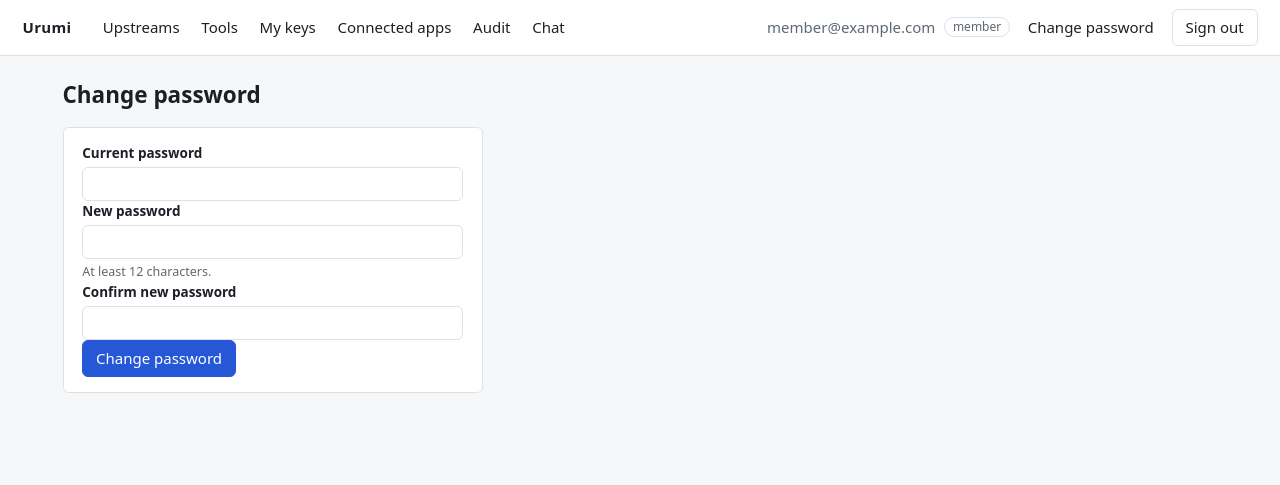
Scenario: change password › posts current + new password and clears the form
This screenshot has width=1280, height=485.
Type "old-password" into the password field labelled "Current password".
click(273, 184); type("old-password")  # box [82,167,463,201]
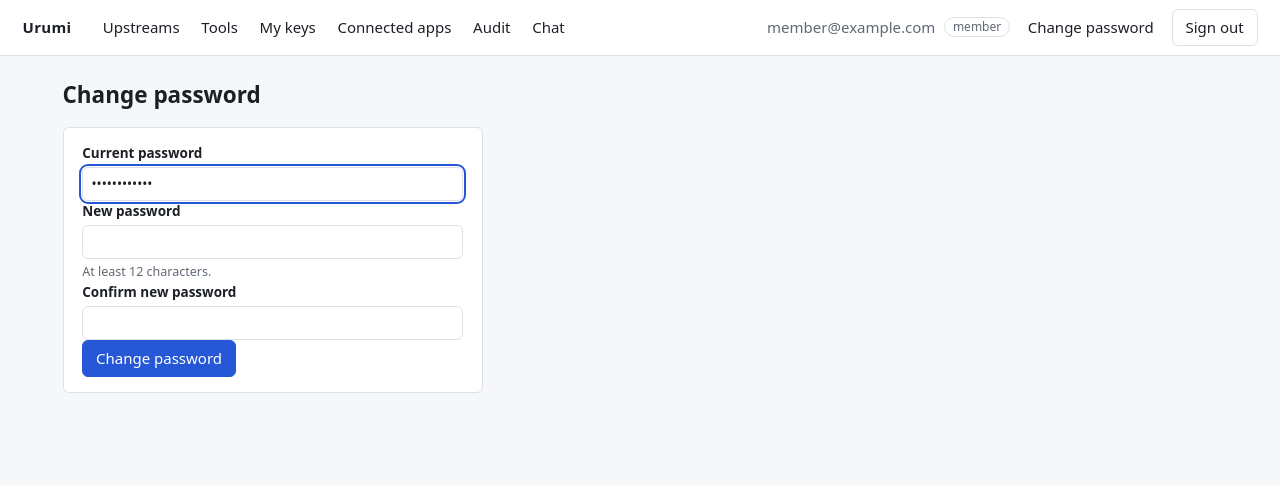
Type "a-much-longer-password" into the password field labelled "New password".
click(273, 242); type("a-much-longer-password")  # box [82,225,463,259]
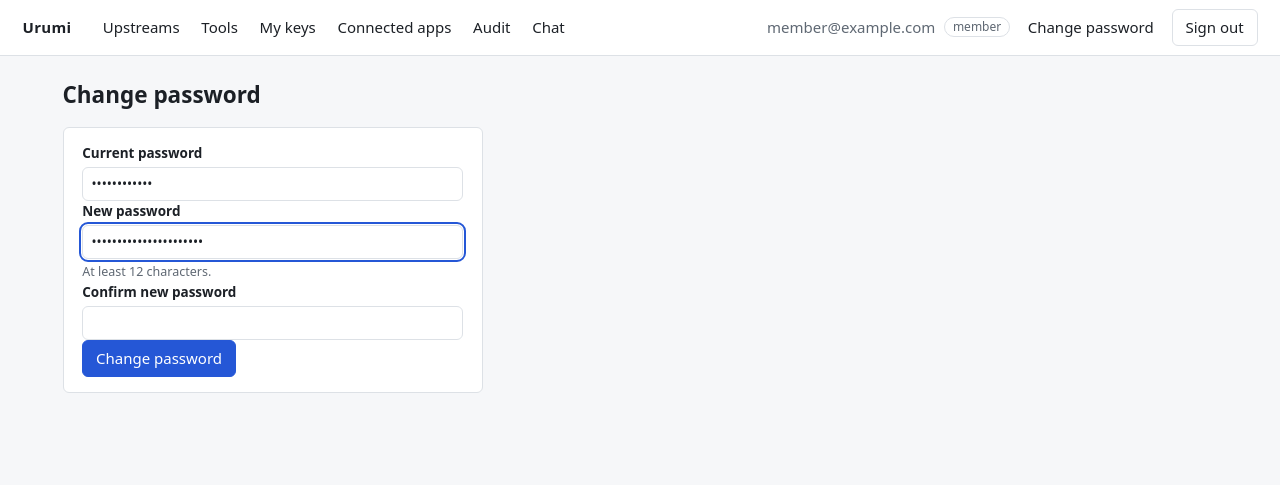
Type "a-much-longer-password" into the password field labelled "Confirm new password".
click(273, 323); type("a-much-longer-password")  # box [82,306,463,340]
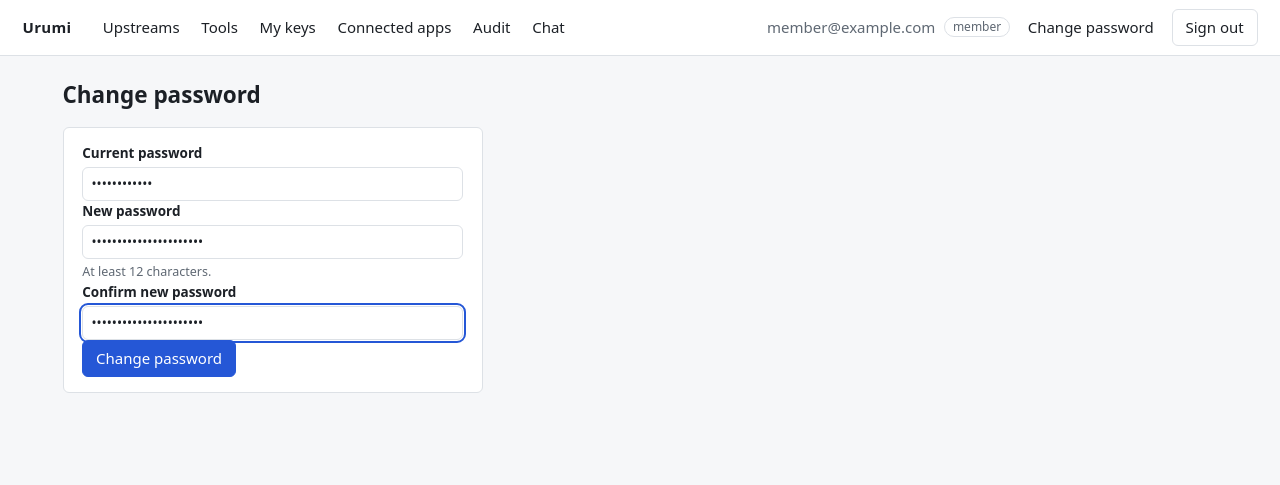
Click the button "Change password".
click(159, 358)  # box [82,340,236,376]
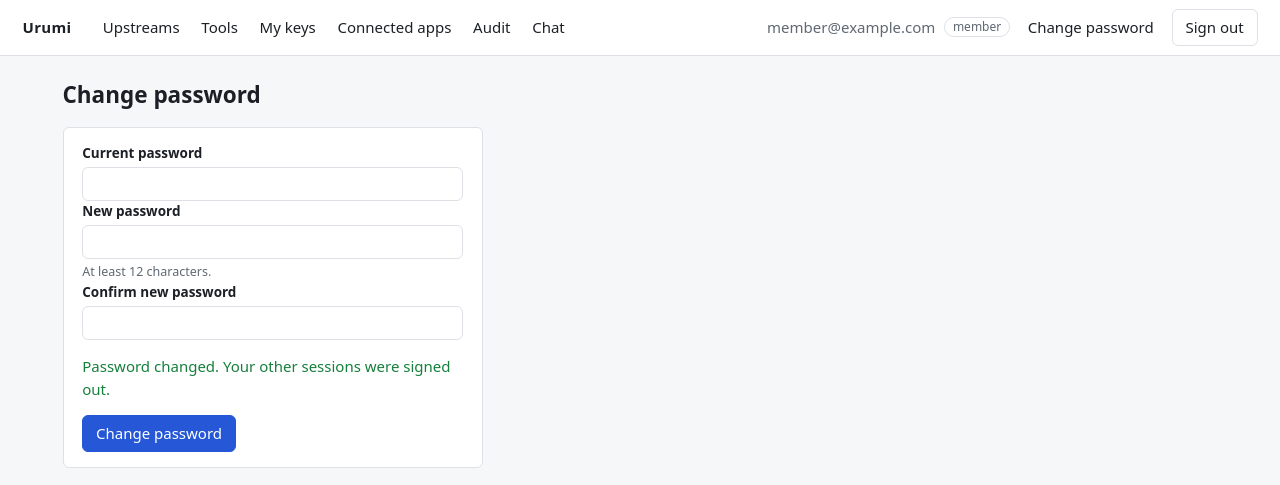
Check: the text "Password changed. Your other sessions were signed out." is shown, box [82,355,463,400]
Check: the password field labelled "Current password" is empty, box [82,167,463,201]
